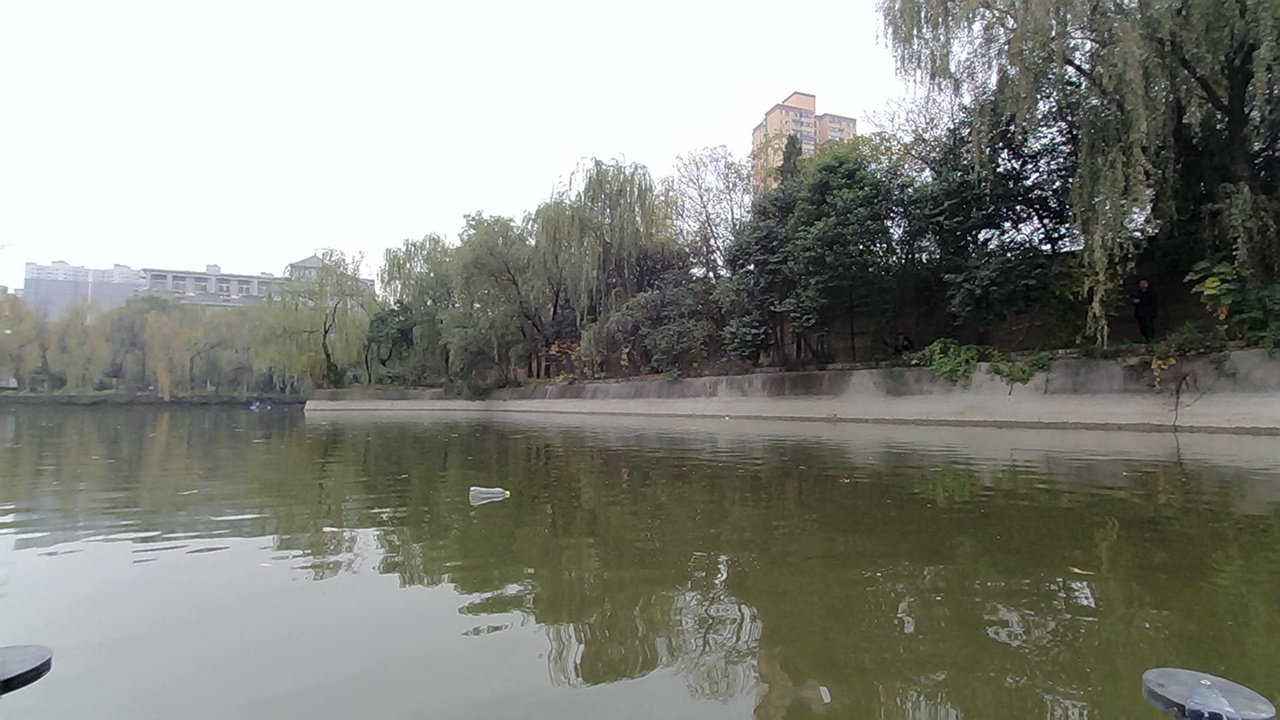bottle: (458, 468, 522, 513)
